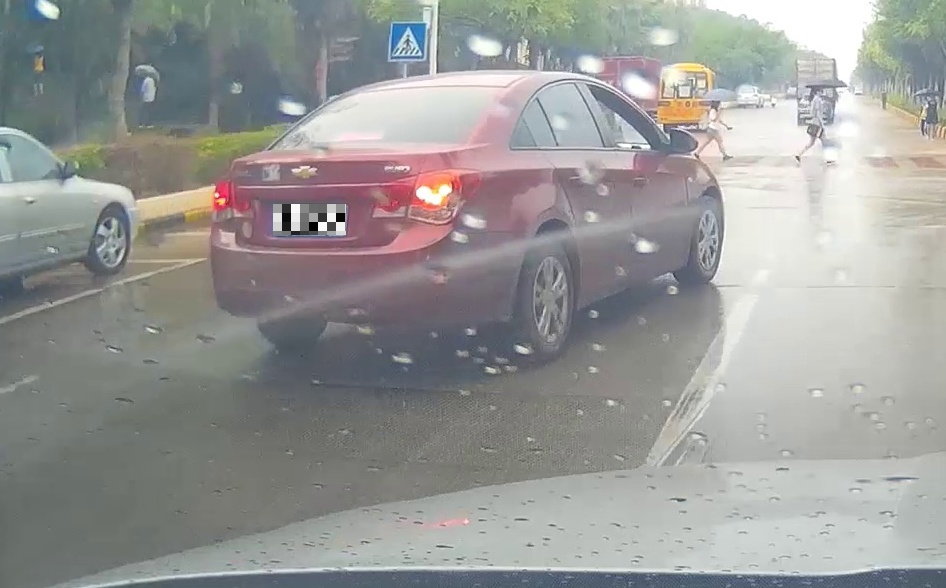L_light: (210, 179, 256, 221)
R_light: (370, 168, 482, 226)
T_light: (335, 128, 383, 139)
day-right: (208, 76, 510, 364)
plate_1: (273, 204, 346, 235)
